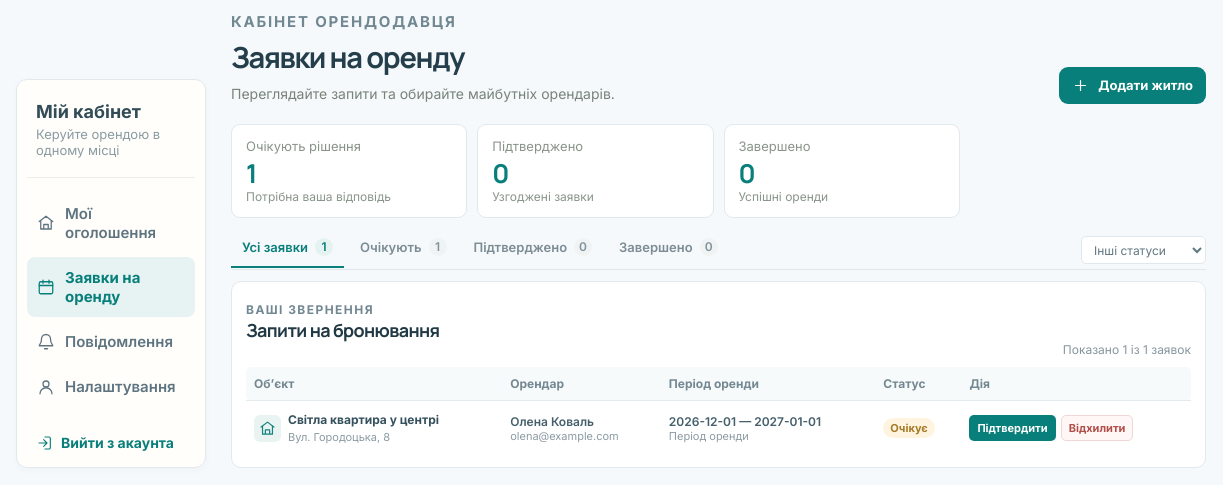
Test case: frontend integration flows › renders the landlord request table and confirms a pending booking
Expected: the heading "Заявки на оренду" is shown, [231,36,464,76]
Expected: the link "Світла квартира у центрі" is shown, [288,412,439,427]
Click the button "Підтвердити" at {"x": 1013, "y": 428}, box [969,415,1056,441]
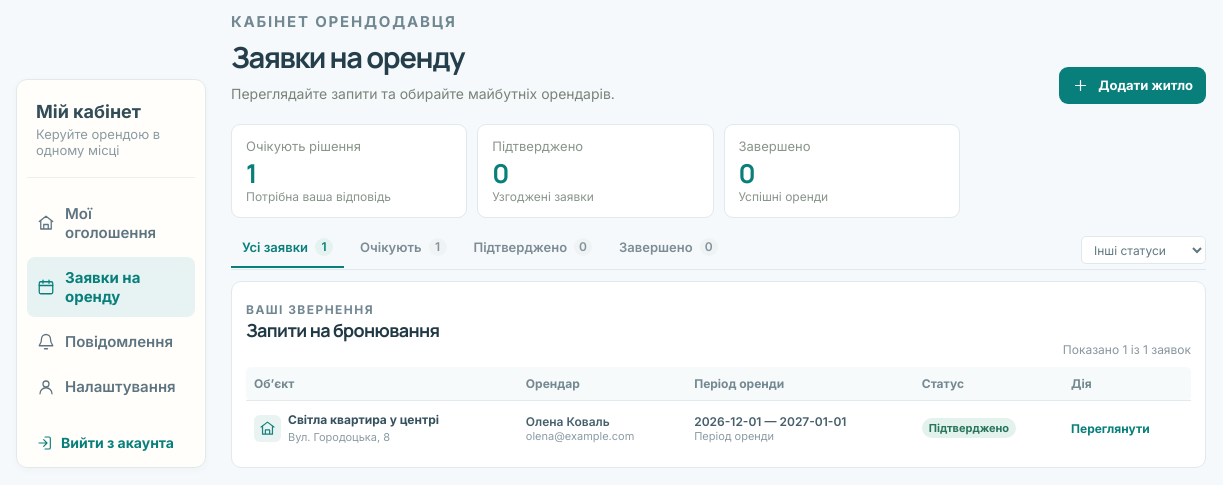
Expected: the text "Підтверджено" in the row of "Світла квартира у центрі" is shown, [929,421,1009,435]
Select "Активні" in the dropdown named "Інші статуси" at {"x": 1144, "y": 250}, box [1081,236,1206,264]
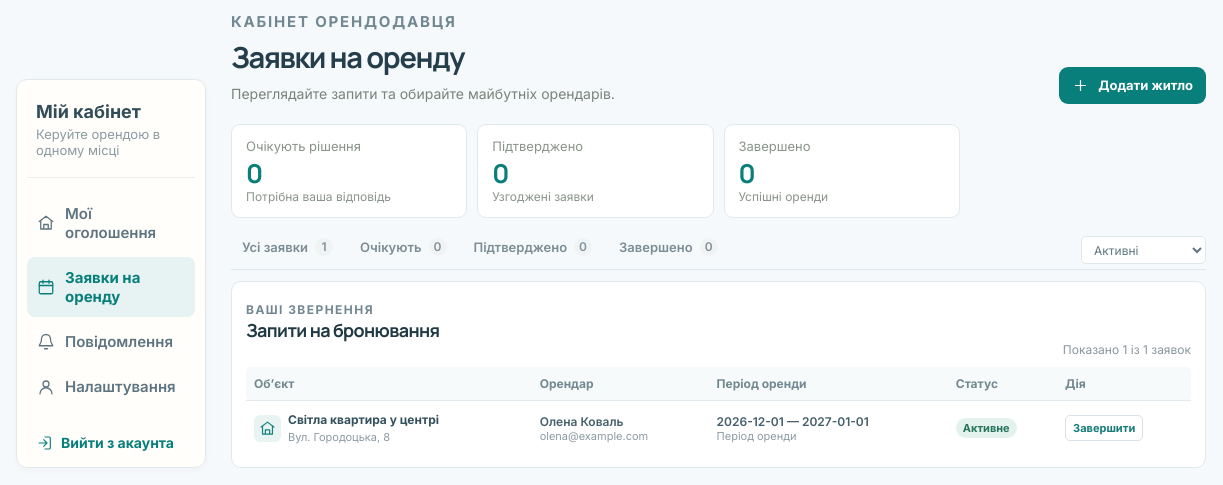
Click the button "Завершити" at {"x": 1104, "y": 428}, box [1065,415,1143,441]
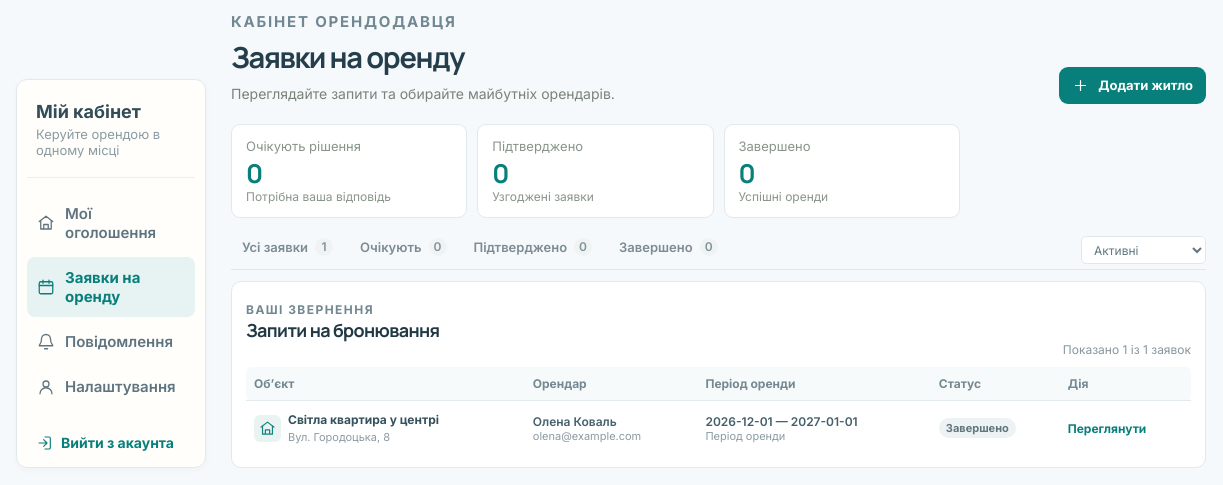
Expected: the text "Завершено" in the row of "Світла квартира у центрі" is shown, [946,421,1009,435]
